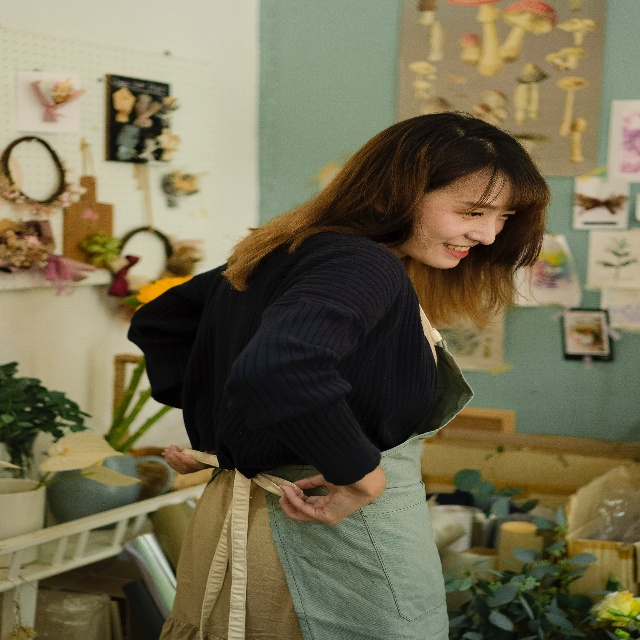Sin_guantes: (279, 470, 384, 521), (161, 442, 205, 473)
